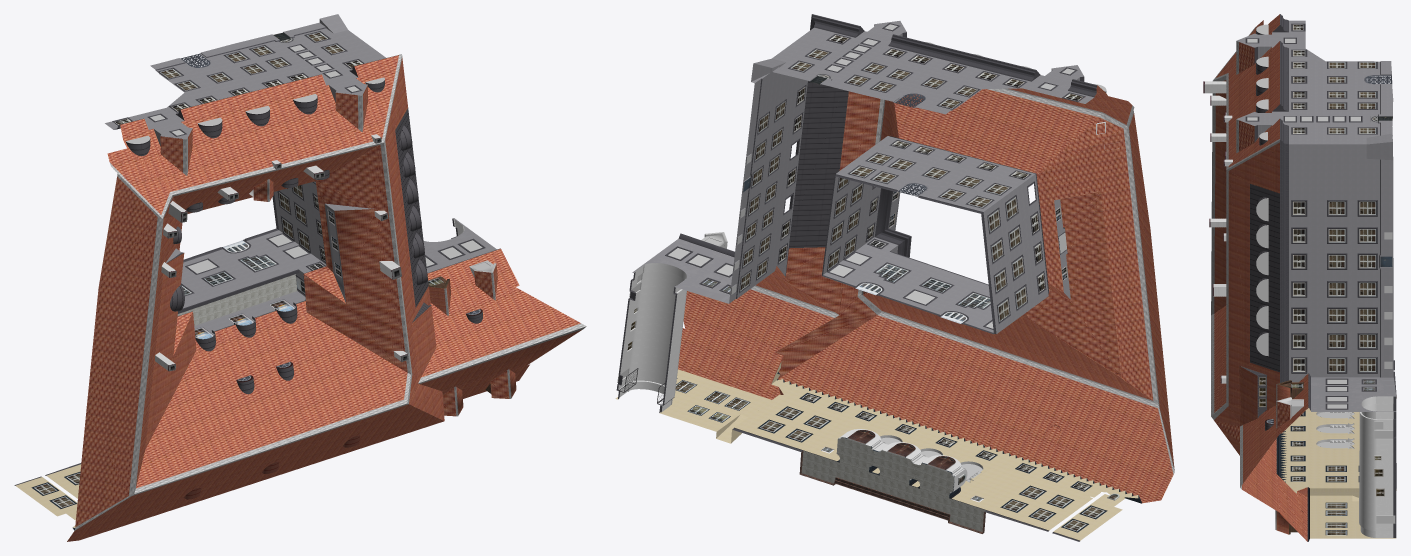
File: Lossi_plats_1a_2.obj
3 renders of one model, left to right at view 1: azimuth 30°, elevation 25°; view 2: azimuth 150°, elevation 25°; view 3: azimuth 270°, elevation 25°, orthographic. The views are drawn at different scales.
Visible parts, largest first — view 1: Lossi_plats_1a_2; view 2: Lossi_plats_1a_2; view 3: Lossi_plats_1a_2.
Part boxes in pixels (x1=…): Lossi_plats_1a_2: x1=14, y1=14, x2=586, y2=541; Lossi_plats_1a_2: x1=615, y1=14, x2=1174, y2=541; Lossi_plats_1a_2: x1=1203, y1=14, x2=1396, y2=541.
Size of the model in its own units: 67.31 by 52.34 by 24.02.
